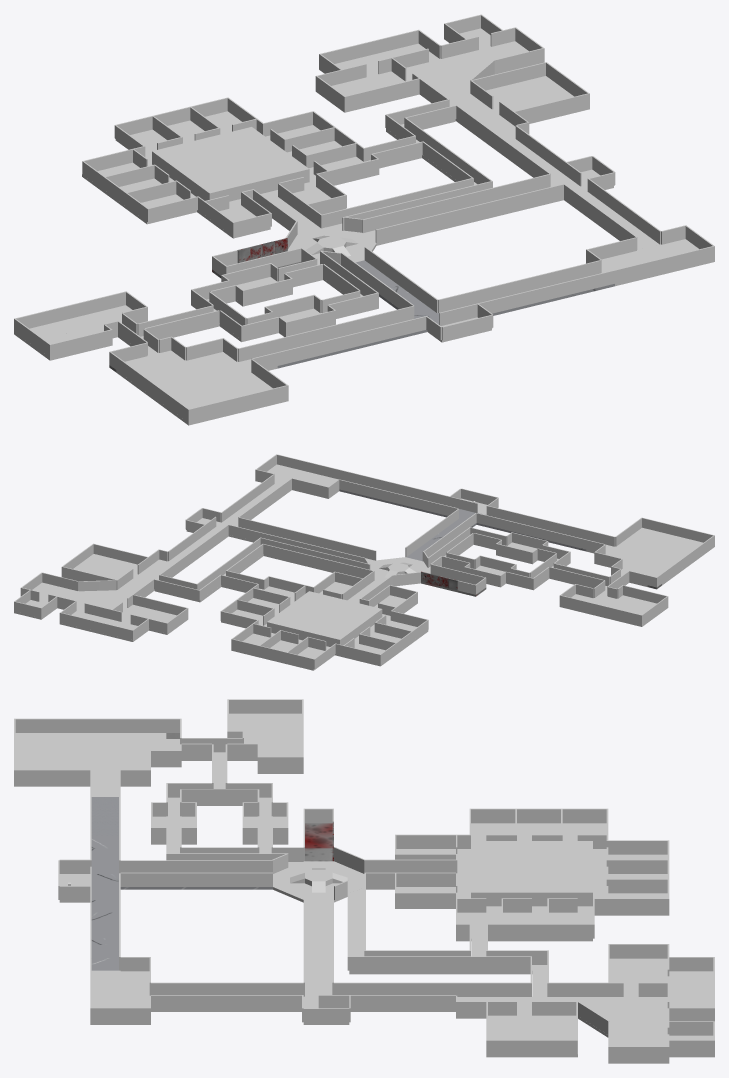
File: Revised map blockoutV5.3 5.fbx
3 views of the same model, one above another, from view 1: azimuth 30°, elevation 25°; view 2: azimuth 150°, elevation 25°; view 3: azimuth 270°, elevation 25° (orthographic). The views are drawn at different scales.
Parts seen in each view (by area): view 1: Living quarters walls, Office Walls, Pathway Down Walls, Walls.003, Office Floor, Living quarters Room.008, Walls, Pathway Right, Pathway Down, Center Platform, Living quarters Room.005, Living quarters Room.006 (+4 smaller); view 2: Living quarters walls, Office Walls, Pathway Down Walls, Office Floor, Walls.003, Living quarters Room.008, Walls, Pathway Right, Pathway Down, Center Platform, Object, Living quarters Room.006 (+3 smaller); view 3: Living quarters walls, Office Walls, Office Floor, Walls.003, Pathway Down, Pathway Down Walls, Pathway Right, Living quarters Room.008, Center Platform, Living quarters Room.006, Pathway Up walls, Object (+9 smaller).
Boxes of the visible parts, <box> form: Living quarters walls: <box>82,97,379,235</box>; Office Walls: <box>315,14,589,144</box>; Pathway Down Walls: <box>238,247,614,368</box>; Walls.003: <box>362,125,660,249</box>; Office Floor: <box>315,41,589,146</box>; Living quarters Room.008: <box>152,139,259,201</box>; Walls: <box>586,225,714,283</box>; Pathway Right: <box>363,139,659,249</box>; Pathway Down: <box>277,260,614,368</box>; Center Platform: <box>285,217,376,264</box>; Living quarters Room.005: <box>202,133,284,193</box>; Living quarters Room.006: <box>227,127,309,183</box>; Living quarters walls: <box>220,571,428,668</box>; Office Walls: <box>14,543,188,639</box>; Pathway Down Walls: <box>339,472,615,561</box>; Office Floor: <box>32,554,188,641</box>; Walls.003: <box>168,474,376,565</box>; Living quarters Room.008: <box>303,600,382,646</box>; Walls: <box>255,454,349,496</box>; Pathway Right: <box>169,484,375,566</box>; Pathway Down: <box>339,489,586,561</box>; Center Platform: <box>365,552,430,586</box>; Object: <box>255,464,339,498</box>; Living quarters Room.006: <box>267,591,326,633</box>; Living quarters walls: <box>395,808,669,938</box>; Office Walls: <box>456,944,714,1060</box>; Office Floor: <box>456,958,713,1063</box>; Walls.003: <box>151,886,455,1009</box>; Pathway Down: <box>91,797,272,970</box>; Pathway Down Walls: <box>90,770,272,970</box>; Pathway Right: <box>151,900,455,1011</box>; Living quarters Room.008: <box>471,841,592,866</box>; Center Platform: <box>272,847,364,902</box>; Living quarters Room.006: <box>471,879,592,906</box>; Pathway Up walls: <box>364,859,455,886</box>; Object: <box>90,970,150,1024</box>.
Bounding box in the file's own units: 54002 × 1267 × 46002.
